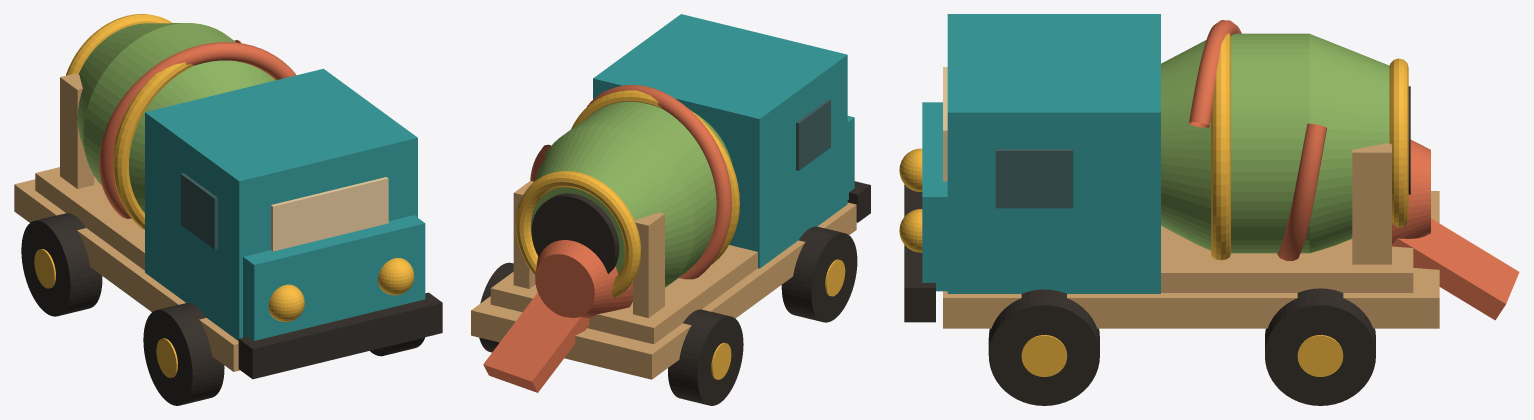
The model's file is truck-mixer.glb.
3 renders of one model, left to right at view 1: azimuth 30°, elevation 25°; view 2: azimuth 150°, elevation 25°; view 3: azimuth 270°, elevation 25°, orthographic. The views are drawn at different scales.
Parts seen in each view (by area): view 1: Mixer_Cab, Mixer_Hood, Mixer_Bumper, Mixer_Drum_Belly, Mixer_Front_Window, Mixer_Wheel_3, Mixer_Wheel_1, Mixer_Chassis, Mixer_Drum_Front_Cone, Mixer_Spiral_Rib, Mixer_Base_Frame, Mixer_Drum_Belly_Ring (+9 smaller); view 2: Mixer_Cab, Mixer_Drum_Rear_Cone, Mixer_Chassis, Mixer_Base_Frame, Mixer_Drum_Belly, Mixer_Chute, Mixer_Funnel, Mixer_Wheel_3, Mixer_Wheel_1, Mixer_Drum_Rear_Ring, Mixer_Drum_Rear_Opening, Mixer_Spiral_Rib (+9 smaller); view 3: Mixer_Cab, Mixer_Drum_Belly, Mixer_Chassis, Mixer_Drum_Rear_Cone, Mixer_Base_Frame, Mixer_Wheel_4, Mixer_Wheel_2, Mixer_Drum_Front_Cone, Mixer_Chute, Mixer_Spiral_Rib, Mixer_Rear_Frame_Right, Mixer_Right_Window (+10 smaller).
Part boxes in pixels (left/top/right/bottom): Mixer_Cab: left=145, top=68, right=417, bottom=340; Mixer_Hood: left=243, top=215, right=425, bottom=340; Mixer_Bumper: left=238, top=292, right=442, bottom=379; Mixer_Drum_Belly: left=83, top=23, right=236, bottom=185; Mixer_Front_Window: left=271, top=177, right=388, bottom=251; Mixer_Wheel_3: left=21, top=213, right=102, bottom=316; Mixer_Wheel_1: left=143, top=303, right=224, bottom=405; Mixer_Chassis: left=14, top=179, right=239, bottom=371; Mixer_Drum_Front_Cone: left=129, top=60, right=275, bottom=212; Mixer_Spiral_Rib: left=99, top=40, right=296, bottom=218; Mixer_Base_Frame: left=35, top=167, right=144, bottom=270; Mixer_Drum_Belly_Ring: left=113, top=62, right=193, bottom=229; Mixer_Cab: left=593, top=14, right=847, bottom=268; Mixer_Drum_Rear_Cone: left=530, top=125, right=694, bottom=287; Mixer_Chassis: left=471, top=202, right=856, bottom=379; Mixer_Base_Frame: left=490, top=245, right=757, bottom=344; Mixer_Drum_Belly: left=565, top=101, right=716, bottom=281; Mixer_Chute: left=483, top=292, right=589, bottom=392; Mixer_Funnel: left=535, top=240, right=632, bottom=318; Mixer_Wheel_3: left=668, top=309, right=743, bottom=405; Mixer_Wheel_1: left=781, top=226, right=857, bottom=322; Mixer_Drum_Rear_Ring: left=515, top=171, right=640, bottom=297; Mixer_Drum_Rear_Opening: left=531, top=193, right=619, bottom=273; Mixer_Spiral_Rib: left=530, top=85, right=731, bottom=279; Mixer_Cab: left=947, top=14, right=1160, bottom=293; Mixer_Drum_Belly: left=1231, top=33, right=1309, bottom=253; Mixer_Chassis: left=943, top=191, right=1439, bottom=328; Mixer_Drum_Rear_Cone: left=1309, top=34, right=1389, bottom=252; Mixer_Base_Frame: left=1161, top=226, right=1413, bottom=292; Mixer_Wheel_4: left=1265, top=288, right=1375, bottom=405; Mixer_Wheel_2: left=988, top=289, right=1099, bottom=405; Mixer_Drum_Front_Cone: left=1161, top=40, right=1211, bottom=250; Mixer_Chute: left=1392, top=218, right=1519, bottom=320; Mixer_Spiral_Rib: left=1189, top=20, right=1326, bottom=260; Mixer_Rear_Frame_Right: left=1352, top=143, right=1391, bottom=264; Mixer_Right_Window: left=995, top=149, right=1073, bottom=208.
Size of the model in its own units: 3.14 by 3.44 by 6.25.
